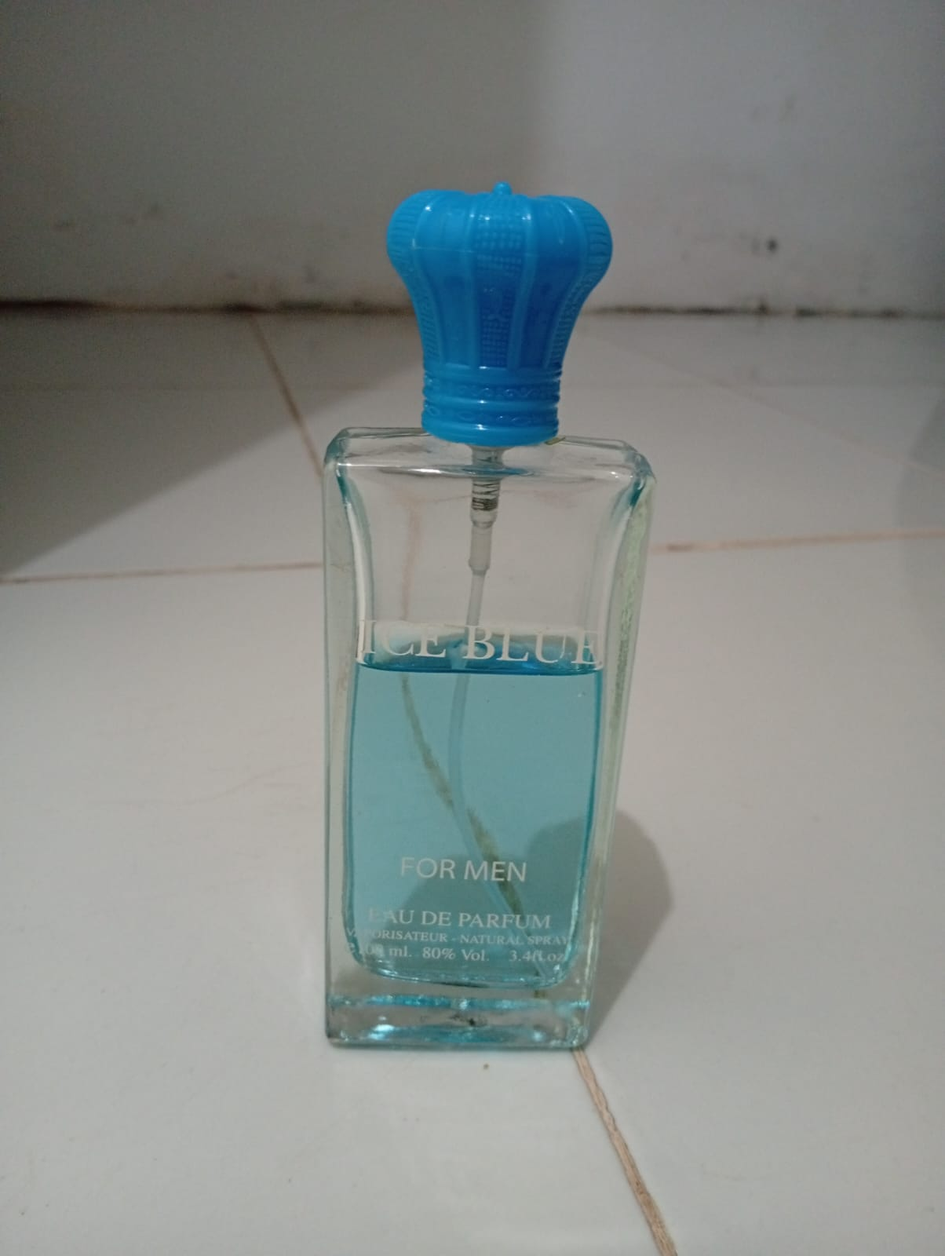Parfum: (263, 155, 699, 1078)
